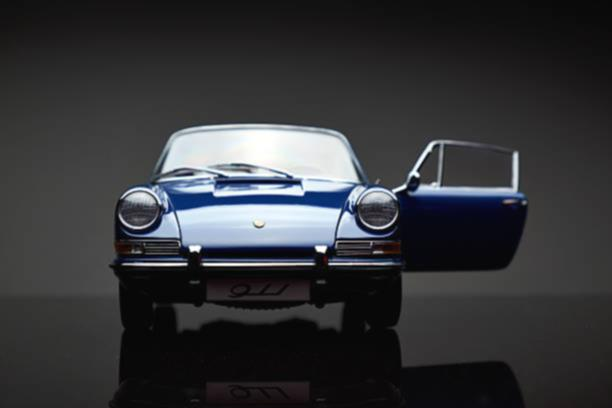porsche: (251, 217, 269, 231)
